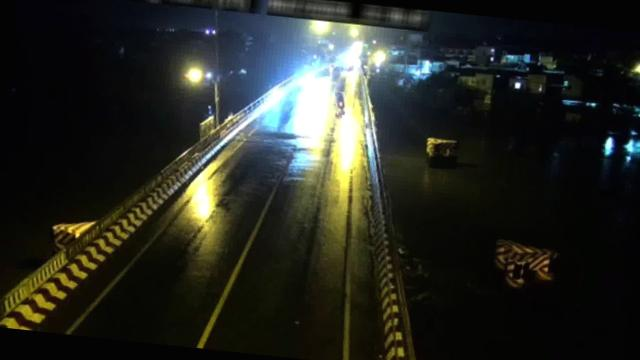Bike: (334, 92, 348, 116)
